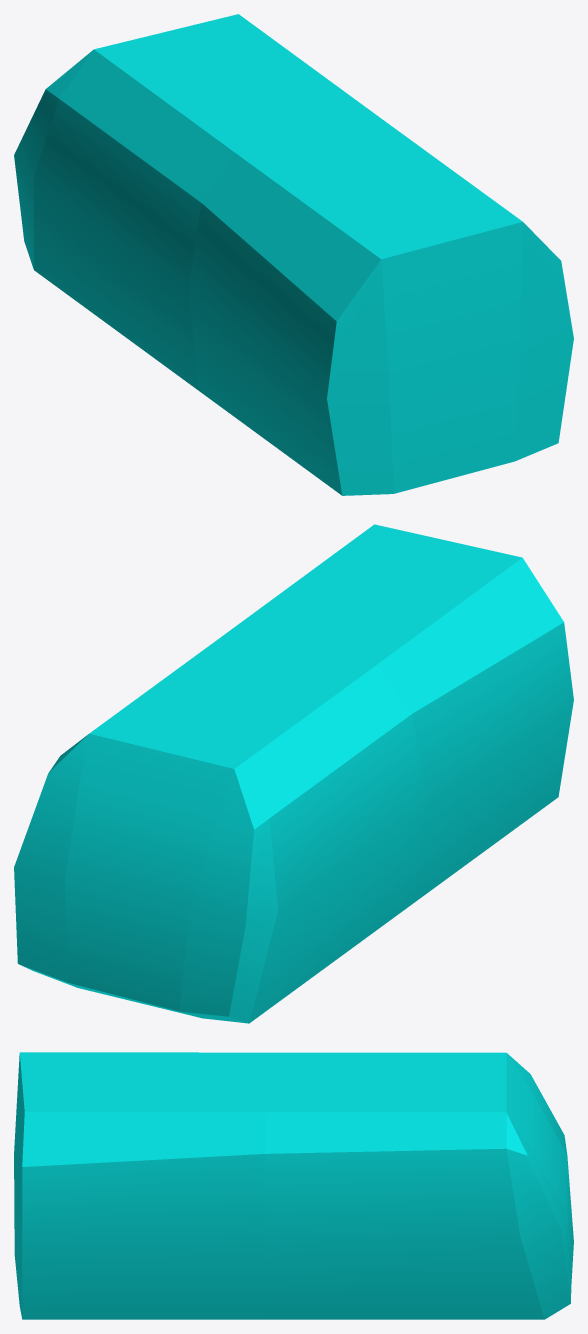
Rendered from SM_Veh_Truck_01_Module_03_Collision1.fbx.
The picture shows the model from 3 angles, top to bottom: view 1: azimuth 30°, elevation 25°; view 2: azimuth 150°, elevation 25°; view 3: azimuth 270°, elevation 25°; orthographic projection. The views are drawn at different scales.
Visible parts, largest first — view 1: SM_Veh_Truck_01_Module_03_Collision1; view 2: SM_Veh_Truck_01_Module_03_Collision1; view 3: SM_Veh_Truck_01_Module_03_Collision1.
Boxes of the visible parts, left/top/right/bottom form: SM_Veh_Truck_01_Module_03_Collision1: left=14, top=14, right=573, bottom=495; SM_Veh_Truck_01_Module_03_Collision1: left=14, top=524, right=573, bottom=1023; SM_Veh_Truck_01_Module_03_Collision1: left=14, top=1052, right=573, bottom=1319.
Size of the model in its own units: 310 by 281 by 718.
